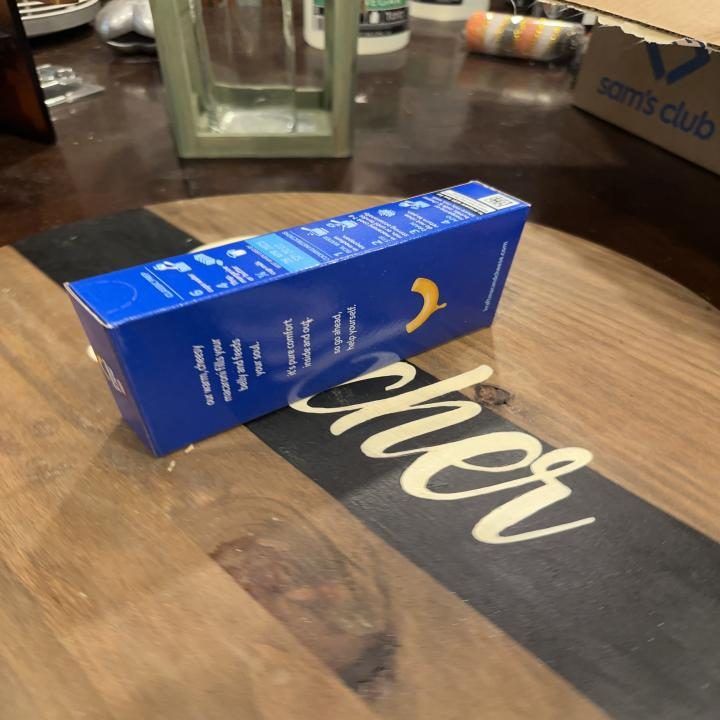Mac-And-Cheese: (61, 176, 537, 460)
